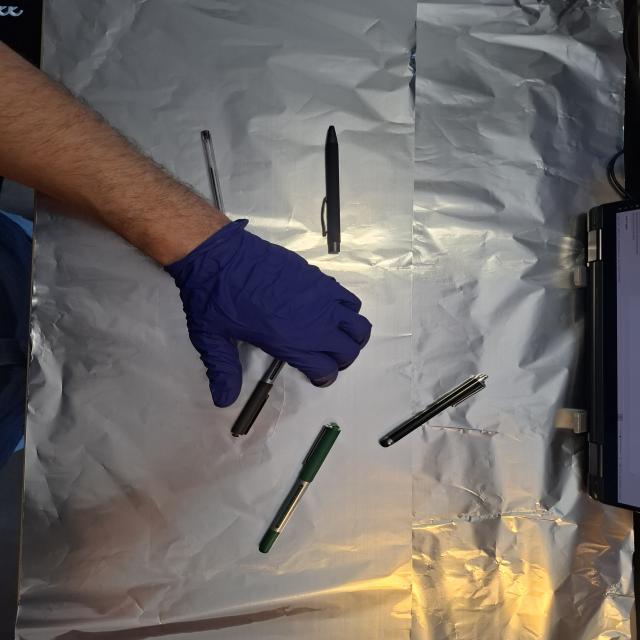glove_on: (170, 222, 375, 410)
